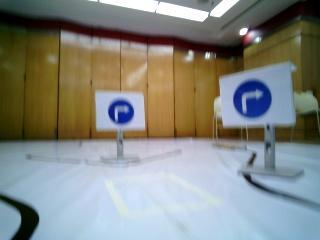right: (220, 75, 295, 123), (97, 91, 145, 129)
